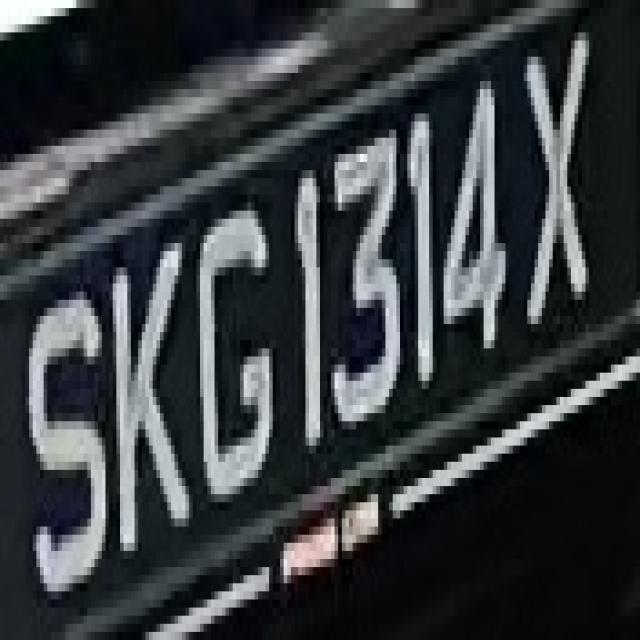1: (280, 154, 335, 470), (392, 105, 443, 405)
3: (320, 105, 404, 446)
4: (429, 65, 513, 372)
G: (189, 162, 280, 519)
K: (95, 227, 200, 575)
S: (18, 276, 113, 600)
X: (513, 40, 600, 348)
